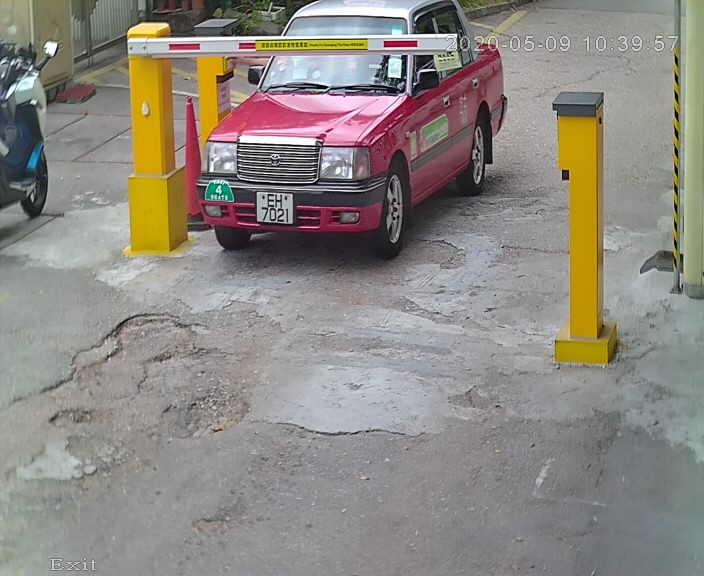taxi: (177, 5, 513, 279)
taxi_mark: (198, 171, 241, 211)
